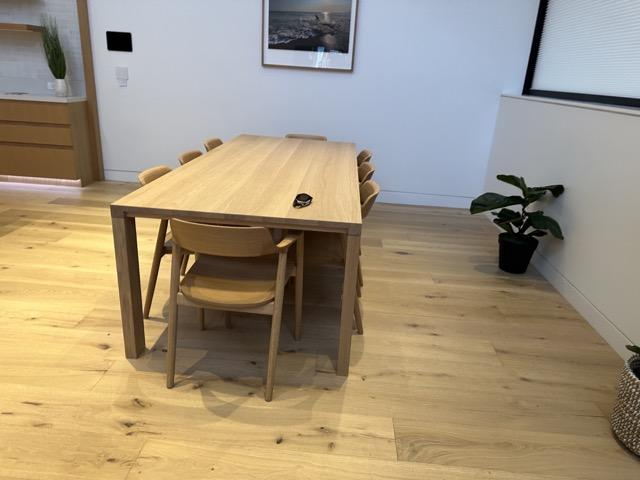Sunglasses: (291, 191, 313, 210)
